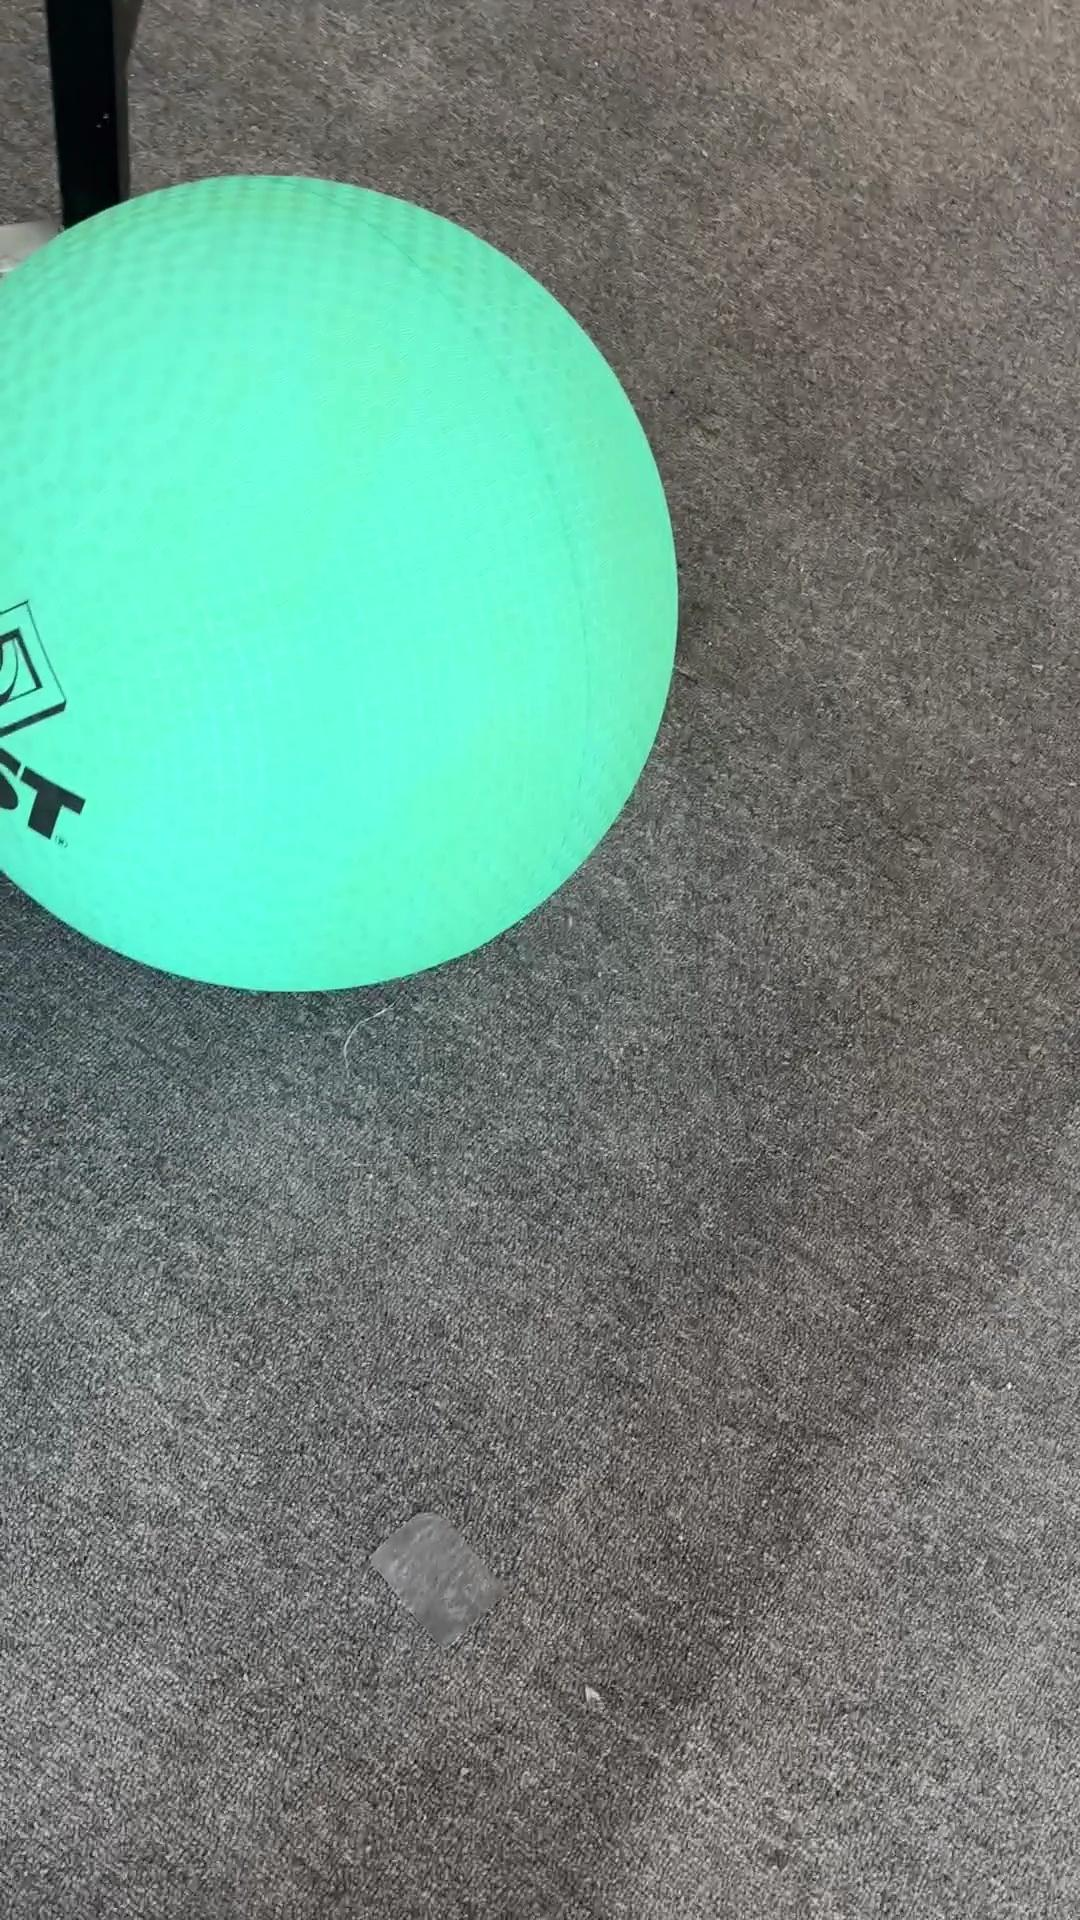ALGAE: (1, 171, 680, 996)
